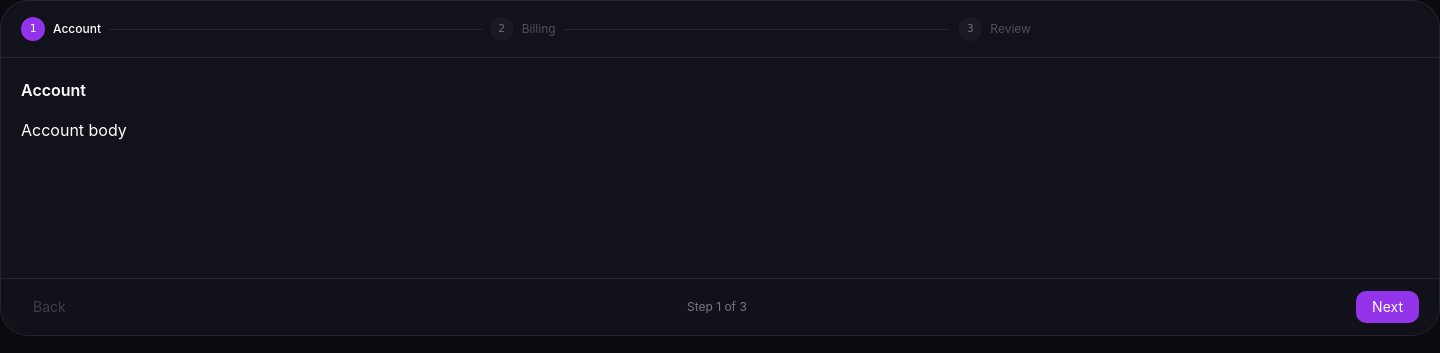
Test case: Wizard › advances with Next and goes back with Back
This screenshot has width=1440, height=353.
Click the button "Next": (1388, 307) [1356,291,1419,323]
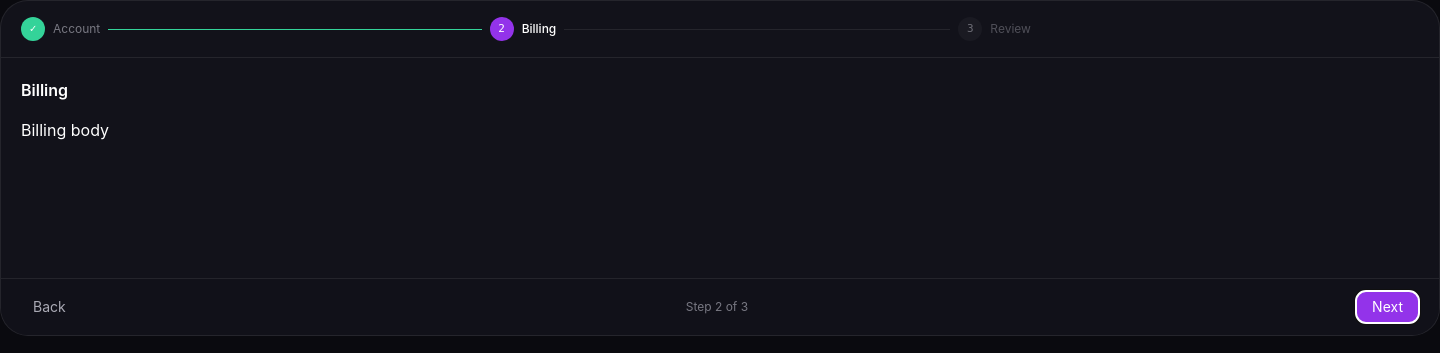
Now the text "Billing body" is shown, box [21,120,109,140]
Now the text "Step 2 of 3" is shown, box [686,299,748,315]
Click the button "Back": (49, 307) [21,291,78,323]
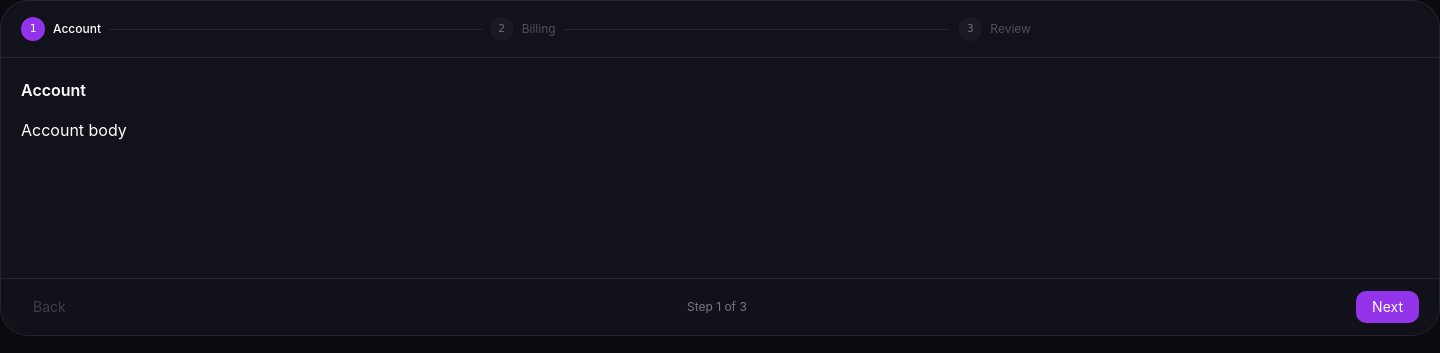
Now the text "Account body" is shown, box [21,120,127,140]
